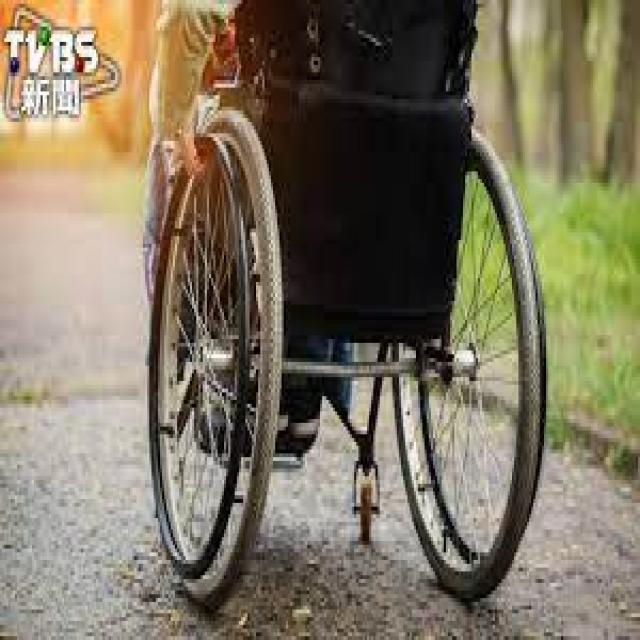wheelchairs: (132, 54, 540, 636)
